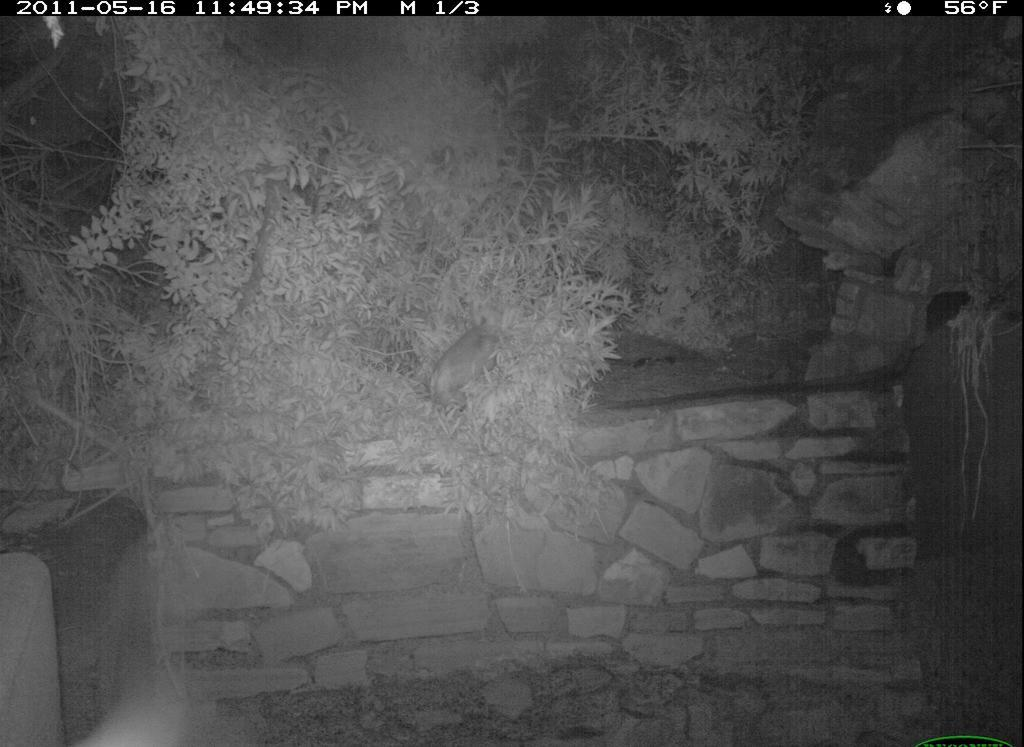opossum: (420, 314, 523, 415)
